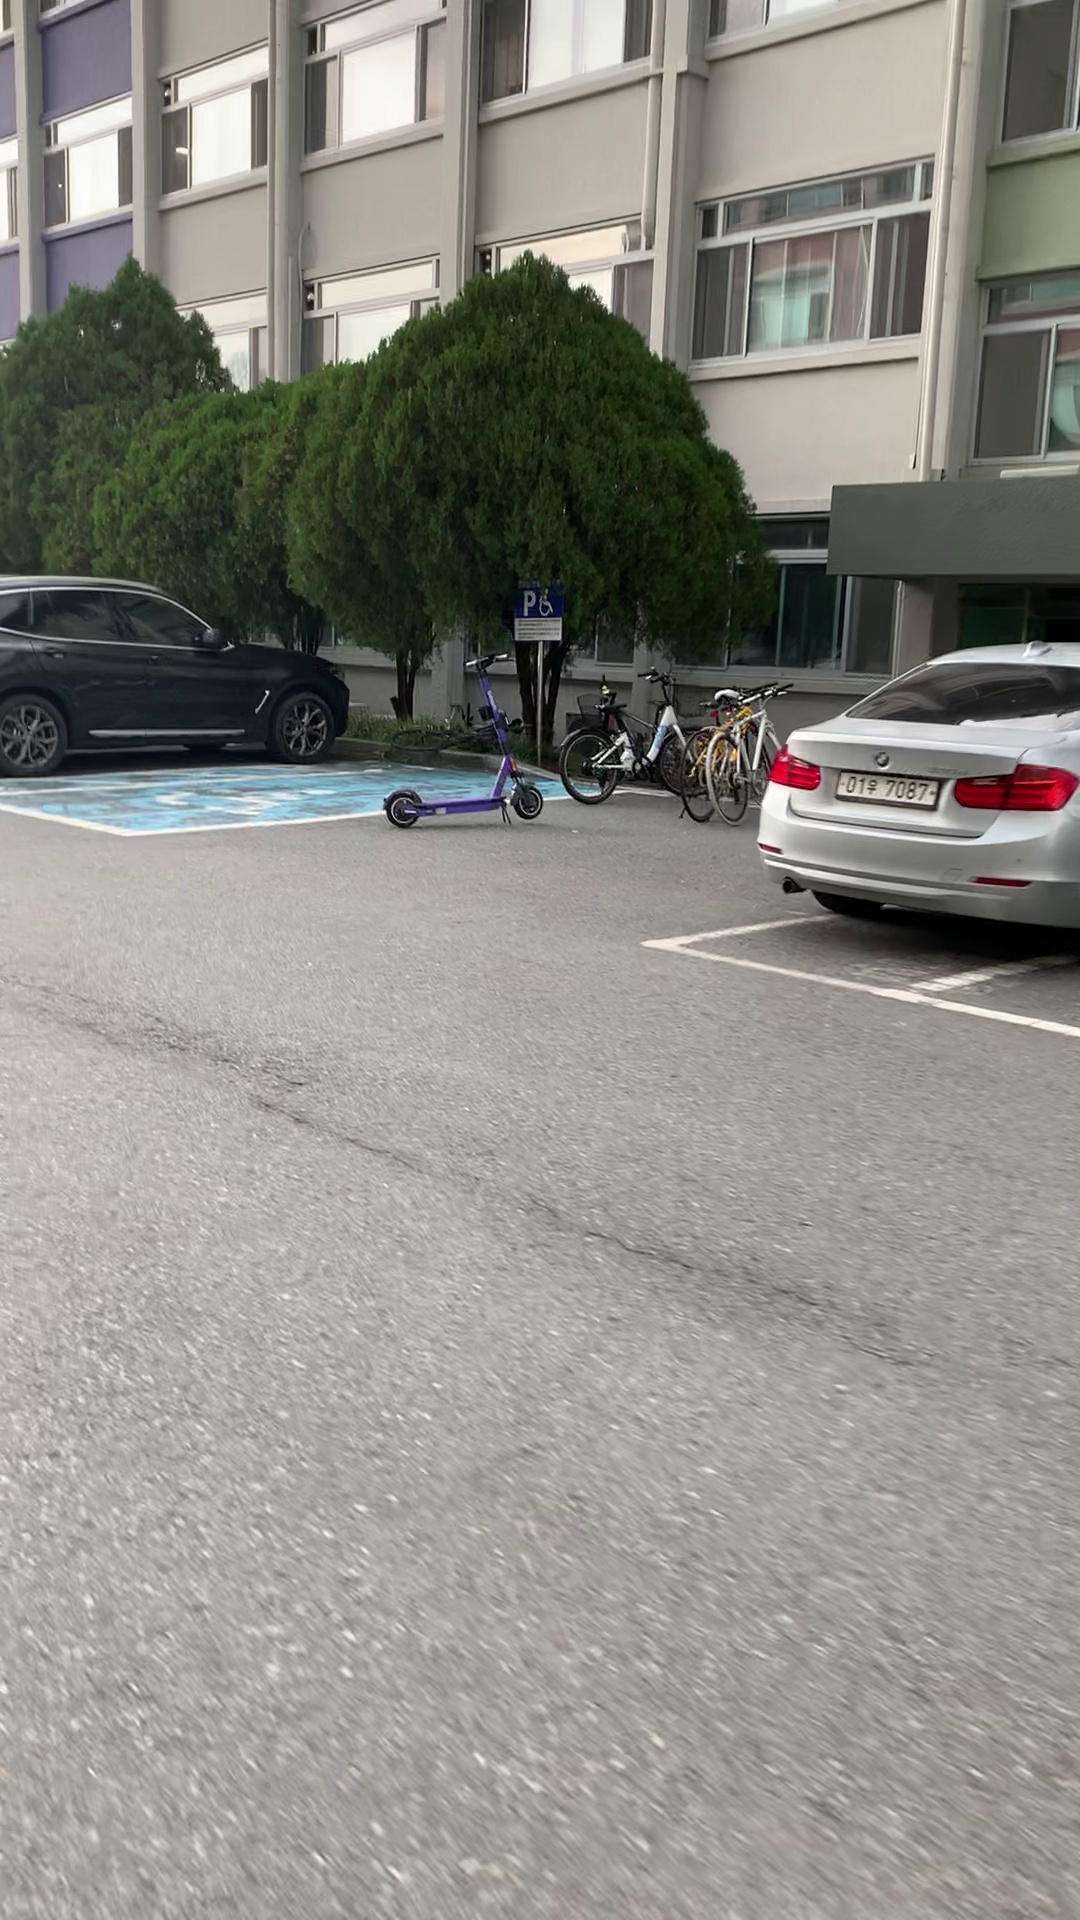beam: (382, 651, 549, 832)
